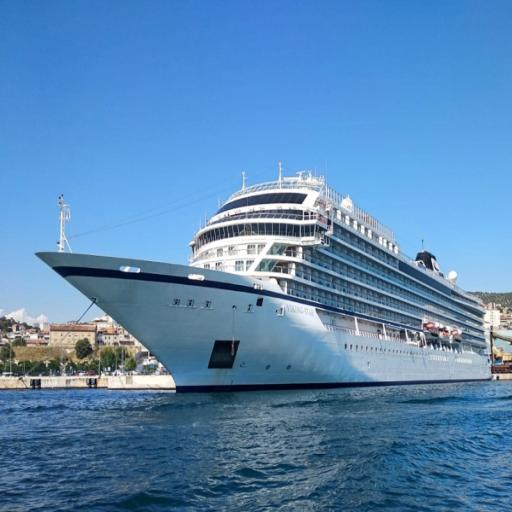cruises: (28, 161, 499, 396)
